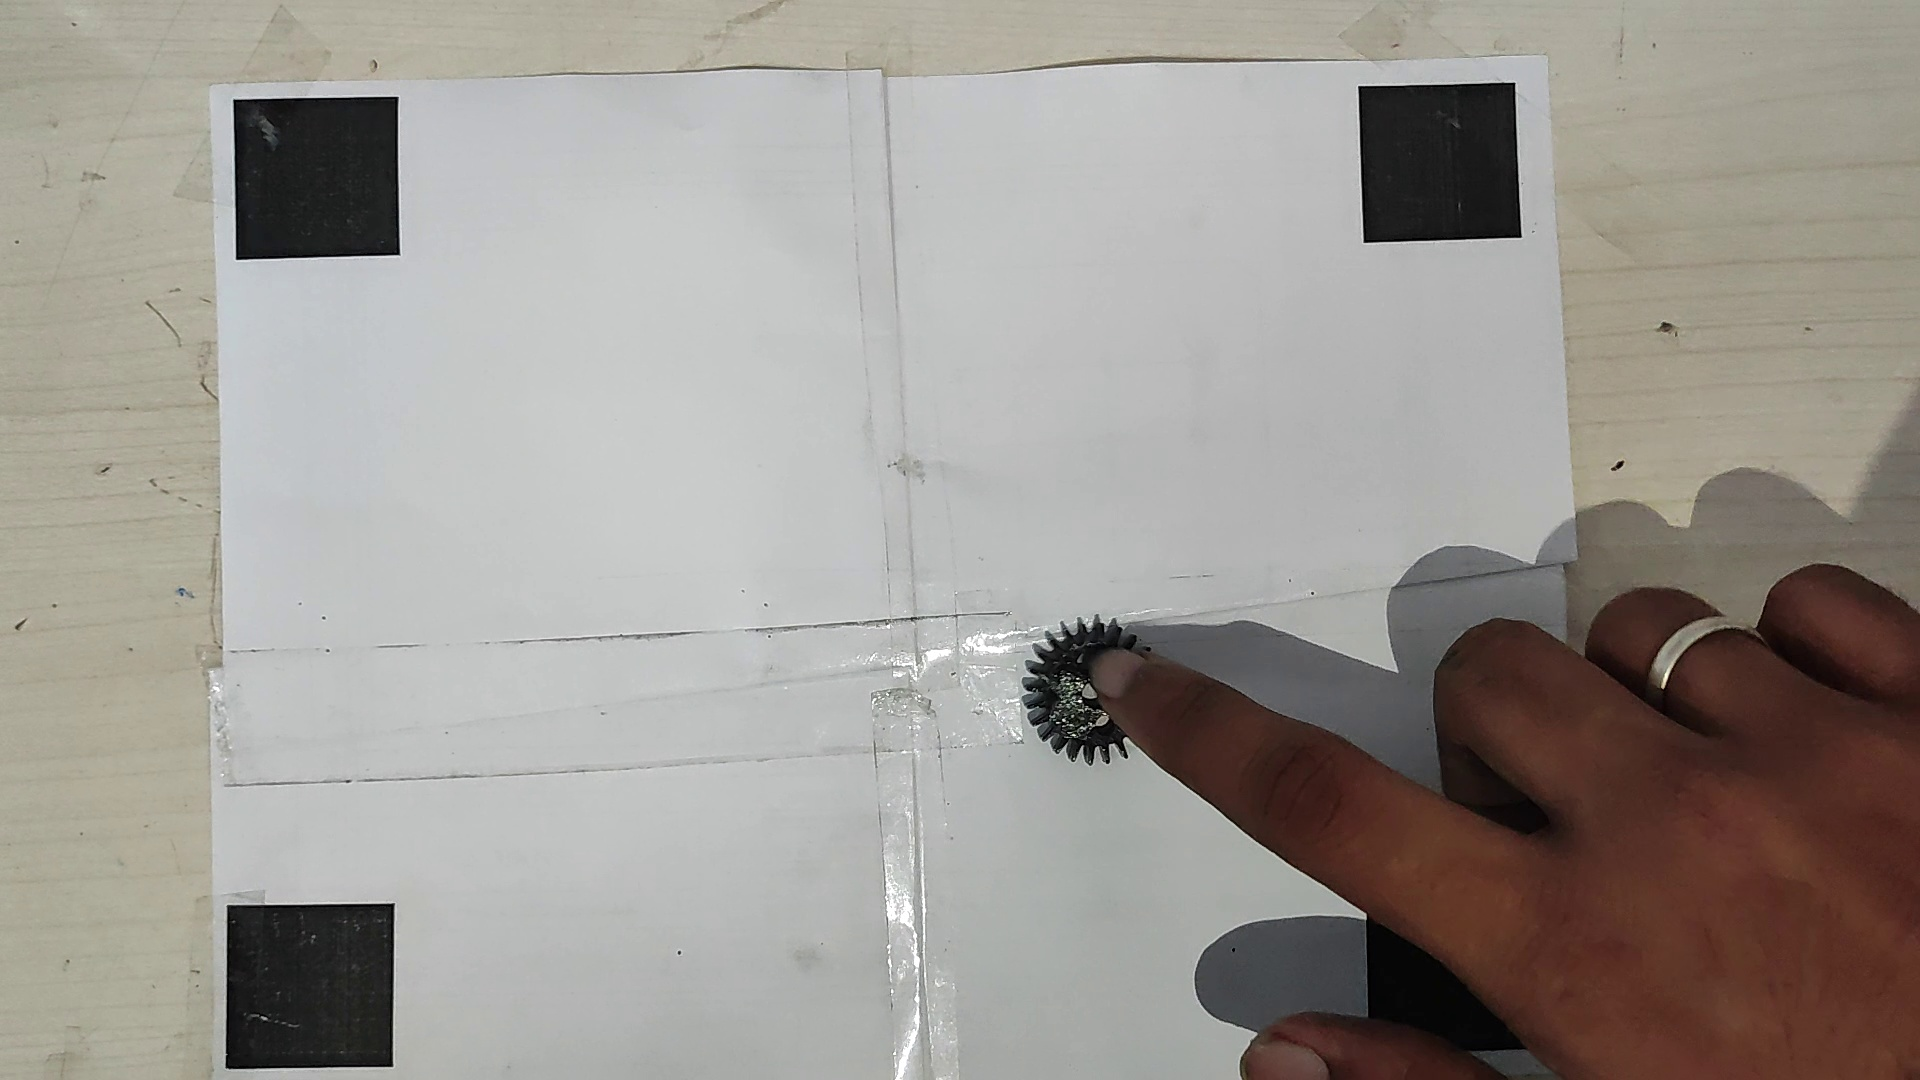Gear: (1015, 610, 1160, 771)
